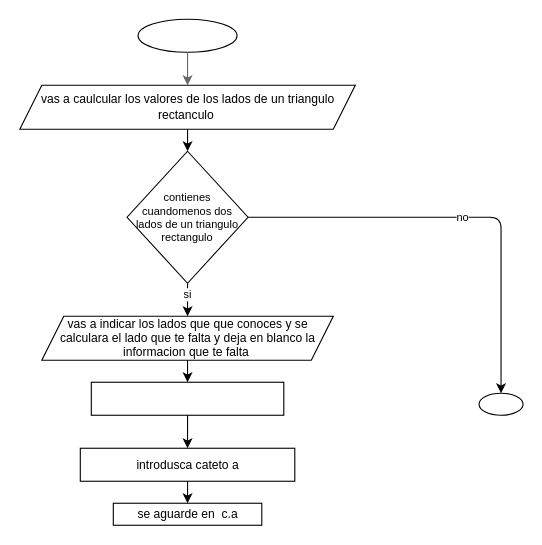
This 542x545 diagram has some shape labels left out. Each missing label, with the centre of its shape:
"c.a,cb,h" belongs at point 187,398.
"fin" belongs at point 500,403.
"Inicio" belongs at point 187,35.
